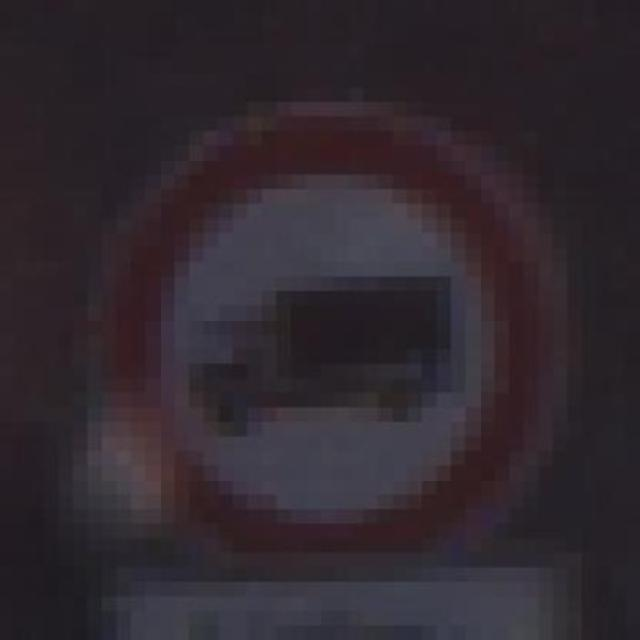Truck traffic is prohibited: (73, 87, 582, 553)
